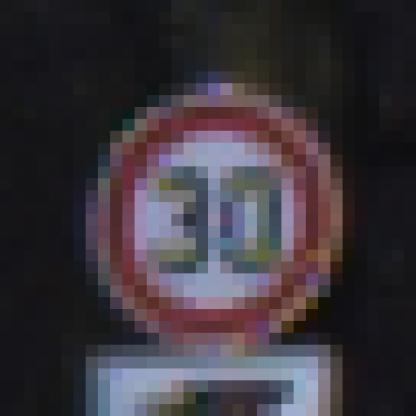Speed Limit 30: (100, 100, 330, 339)
